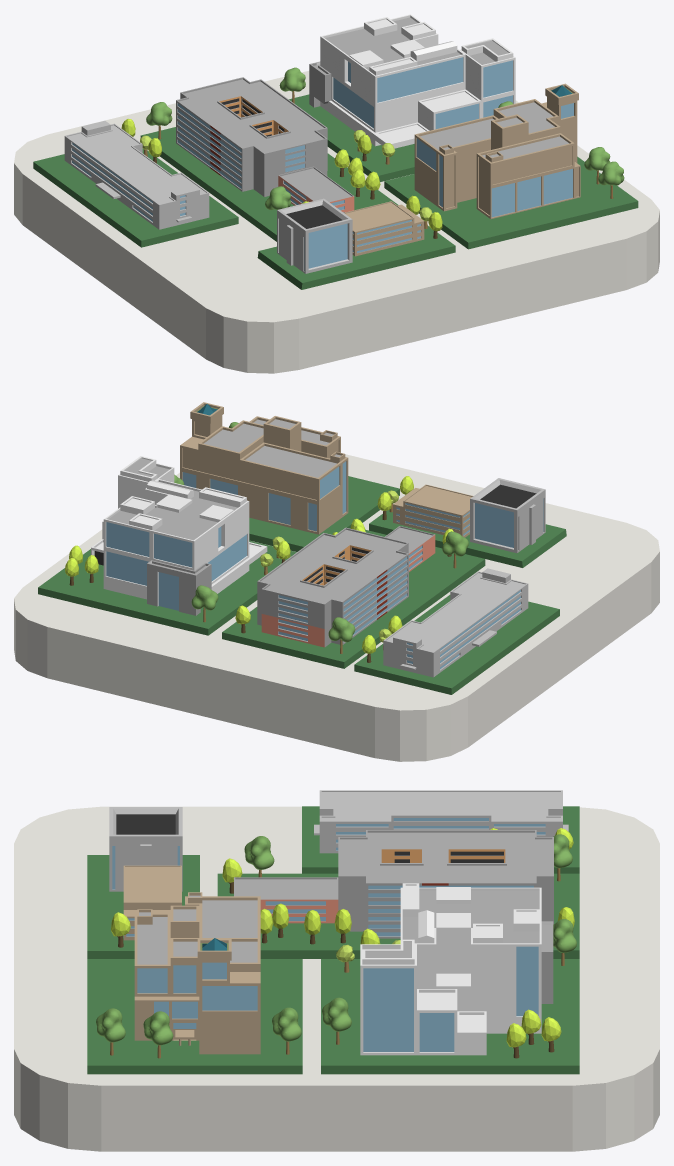
3 renders of one model, top to bottom at view 1: azimuth 30°, elevation 25°; view 2: azimuth 150°, elevation 25°; view 3: azimuth 270°, elevation 25°, orthographic. The views are drawn at different scales.
Visible parts, largest first — view 1: Cube, 工學院4, 工學院5, 工學院1, 工學院3, Plane.002, Plane.017, 工學院2, Plane.016, Plane.018, 工學院6, Plane.001 (+3 smaller); view 2: Cube, 工學院4, 工學院5, 工學院1, 工學院3, Plane.016, Plane.001, Plane.017, 工學院2, 工學院6, Plane.002, Plane.018 (+3 smaller); view 3: Cube, 工學院4, 工學院1, 工學院5, Plane.002, Plane.001, 工學院3, Plane.016, 工學院2, Plane.018, 工學院6, Plane.017 (+7 smaller).
Part boxes in pixels (x1,y1,x2,y2): Cube: (14,71,659,373); 工學院4: (309,14,515,148); 工學院5: (414,83,580,218); 工學院1: (176,77,354,212); 工學院3: (64,120,209,229); Plane.002: (384,156,638,249); Plane.017: (33,149,238,247); 工學院2: (277,198,352,273); Plane.016: (140,127,398,241); Plane.018: (257,225,455,289); 工學院6: (344,201,424,256); Plane.001: (289,94,414,181); Cube: (14,454,659,761); 工學院4: (91,456,267,615); 工學院5: (180,402,348,534); 工學院1: (257,526,435,647); 工學院3: (383,568,528,677); Plane.016: (222,529,485,668); Plane.001: (38,540,296,635); Plane.017: (354,595,559,694); 工學院2: (470,478,545,553); 工學院6: (393,484,473,537); Plane.002: (249,476,399,551); Plane.018: (369,510,566,567); Cube: (14,806,659,1151); 工學院4: (360,883,553,1055); 工學院1: (234,830,553,938); 工學院5: (134,892,260,1054); Plane.002: (87,959,302,1074); Plane.001: (321,959,579,1074); 工學院3: (314,790,568,853); Plane.016: (217,873,579,958); 工學院2: (109,807,182,891); Plane.018: (87,855,199,958); 工學院6: (123,865,181,940); Plane.017: (302,806,579,873).
Bounding box in the file's own units: 22.69 × 7.03 × 22.19.
